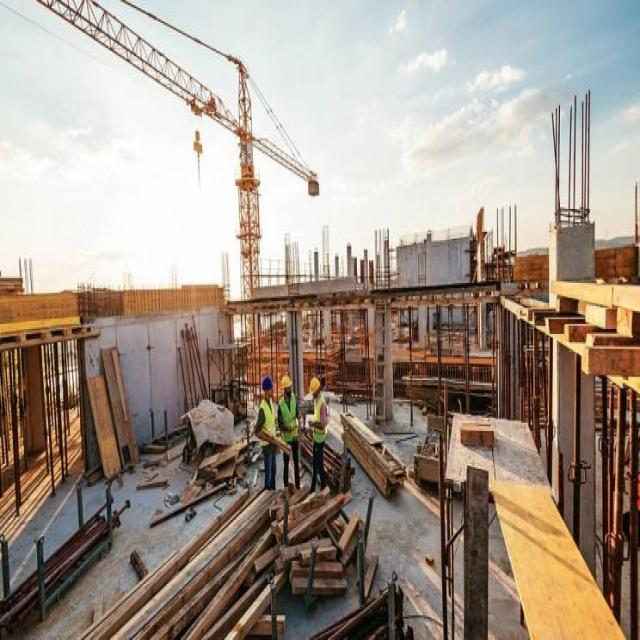Reflective-Jacket: (278, 393, 298, 444), (310, 393, 327, 446), (260, 395, 276, 444)
Safety-Helmet: (280, 372, 294, 390), (310, 374, 322, 393)
